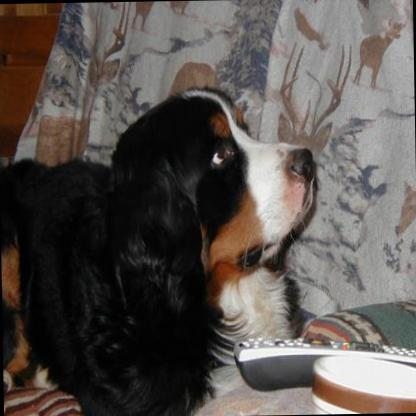Bernese_mountain_dog: (0, 83, 318, 416)
